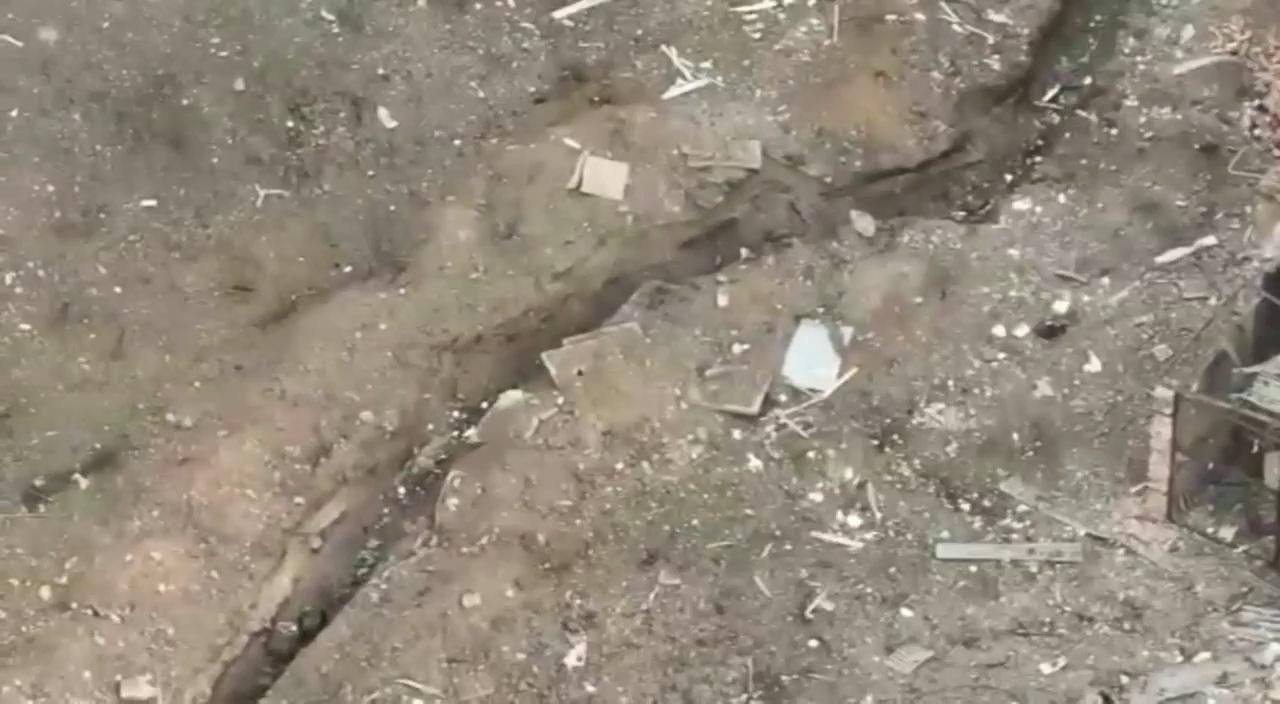trench: (200, 215, 698, 704), (709, 1, 1123, 274)
